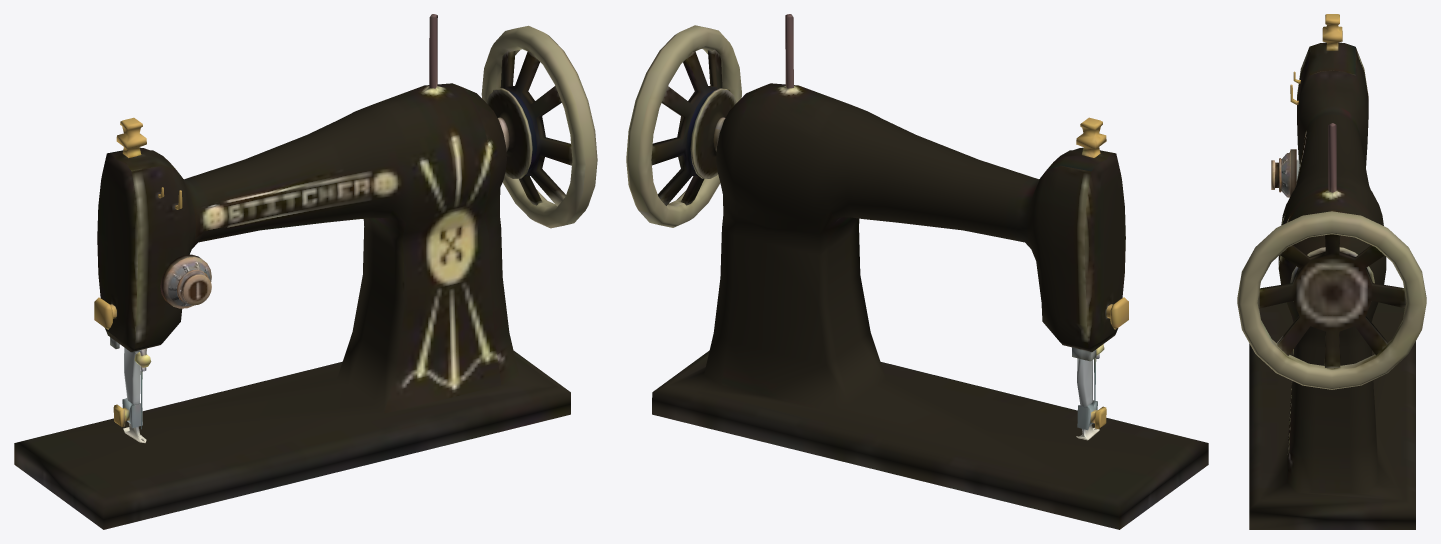
Rendered from ropa_sewing_machine.glb.
3 renders of one model, left to right at view 1: azimuth 30°, elevation 25°; view 2: azimuth 150°, elevation 25°; view 3: azimuth 270°, elevation 25°, orthographic. The views are drawn at different scales.
Parts seen in each view (by area): view 1: Object_2; view 2: Object_2; view 3: Object_2.
Boxes of the visible parts, box(x1,y1,x2,y2) form: Object_2: box(14, 14, 597, 529); Object_2: box(626, 14, 1208, 529); Object_2: box(1237, 14, 1426, 529).
Bounding box in the file's own units: 0.45 × 0.3433 × 0.1614.
1 material, 1 textured.
